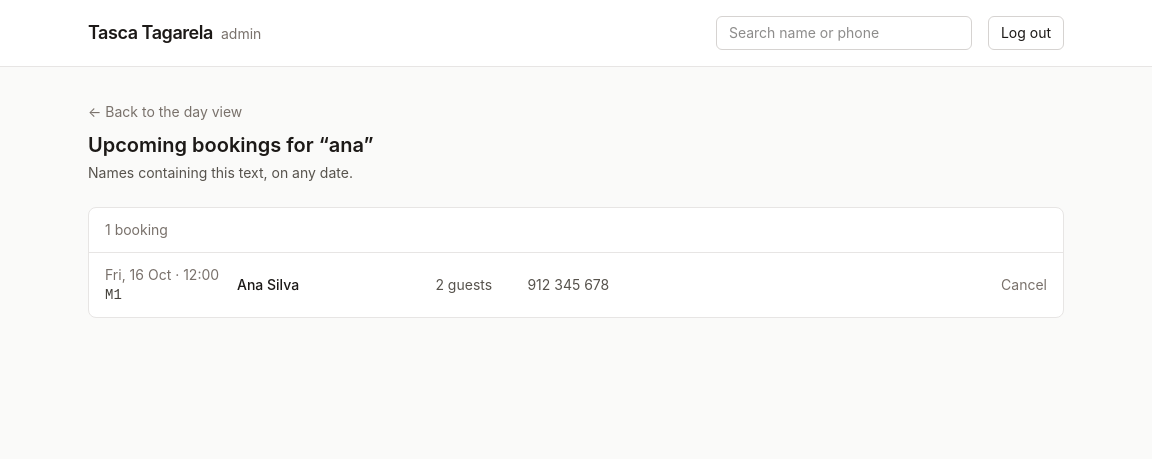
Test: SearchPage › lets you cancel from the results
Click the button with aria-label "Cancel booking for Ana Silva": (1024,285) [1001,275,1047,295]
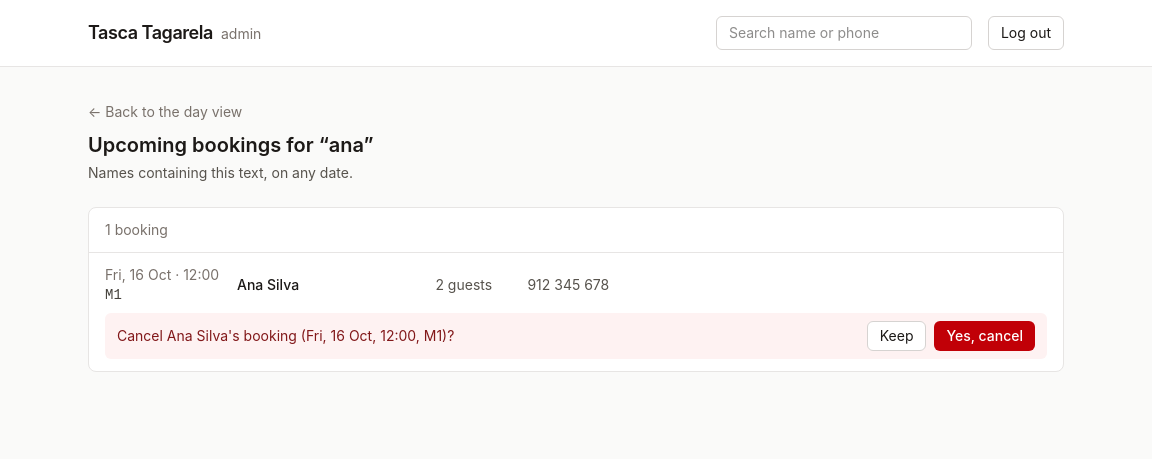
Click the button "Yes, cancel": (985,336) [934,321,1035,351]
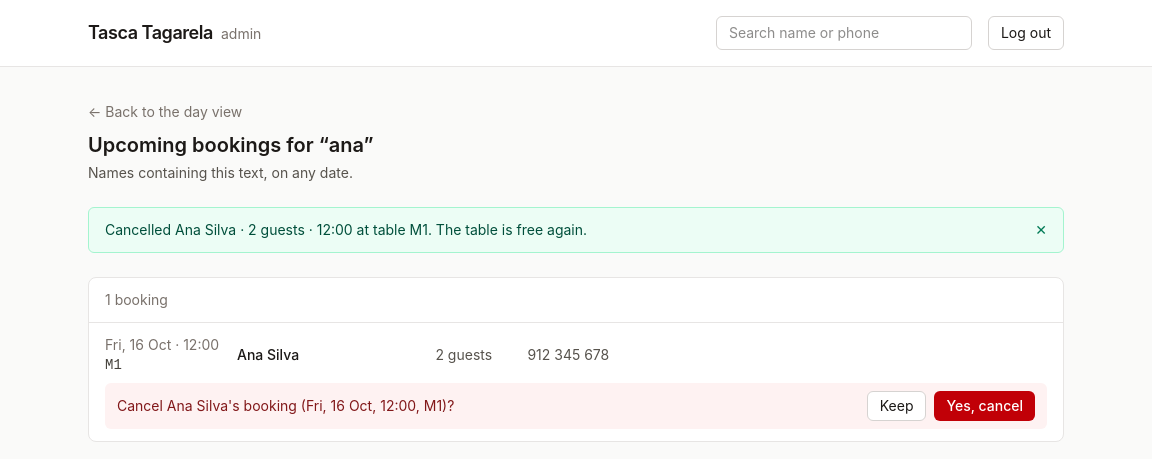
Expected: the message shows "Cancelled Ana Silva", [105,221,587,238]
